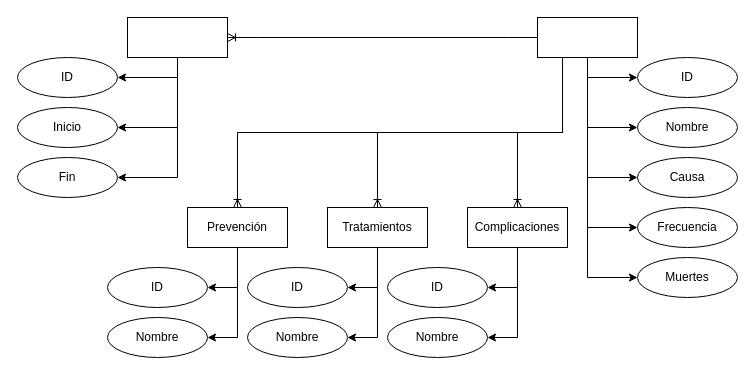
Image size: 755x375. Some labels were removed from this diagram. The centre of each missing label's shape, as x and y in pixels:
Enfermedades: (x=587, y=37)
Epidemia: (x=177, y=37)
